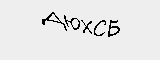Б: (107, 19, 122, 38)
Д: (39, 8, 64, 32)
С: (92, 17, 107, 40)
Х: (80, 18, 94, 37)
Ю: (64, 15, 81, 32)
